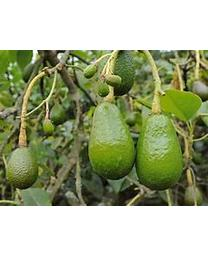avocado: (87, 101, 136, 180), (135, 112, 184, 191), (6, 146, 39, 189)
